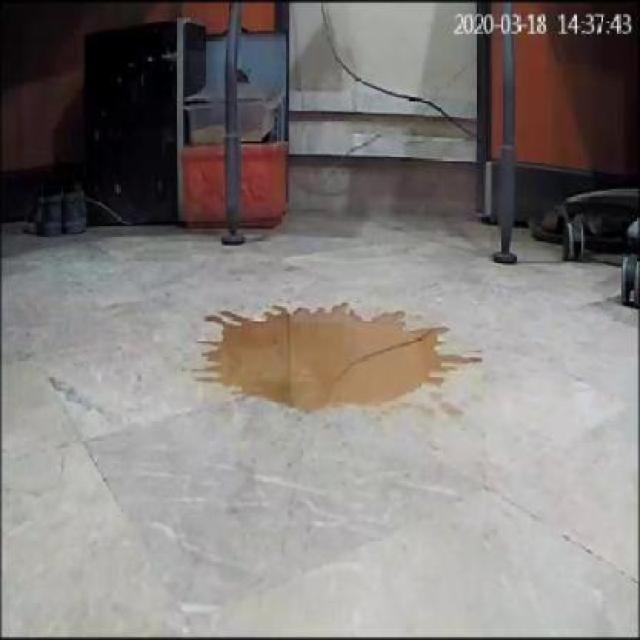spillage: (212, 309, 449, 416)
